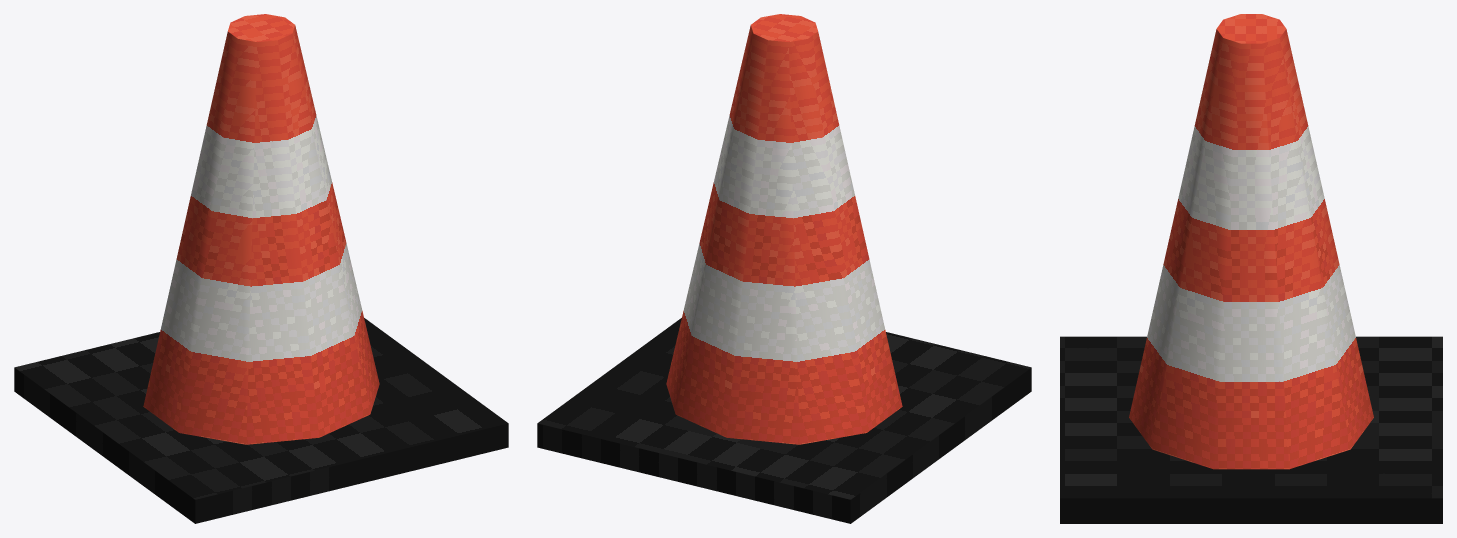
File: Traffic_Cone_1.glb
3 renders of one model, left to right at view 1: azimuth 30°, elevation 25°; view 2: azimuth 150°, elevation 25°; view 3: azimuth 270°, elevation 25°, orthographic. The views are drawn at different scales.
Parts seen in each view (by area): view 1: Traffic_Cone_1; view 2: Traffic_Cone_1; view 3: Traffic_Cone_1.
Part boxes in pixels (<box>): Traffic_Cone_1: <box>14,14,508,523</box>; Traffic_Cone_1: <box>537,14,1031,523</box>; Traffic_Cone_1: <box>1060,14,1442,523</box>.
Bounding box in the file's own units: 0.625 × 0.746 × 0.625.
1 material, 1 textured.
